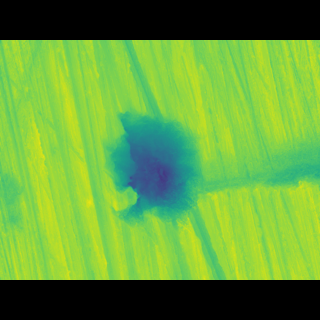Loch: (104, 121, 204, 212)
